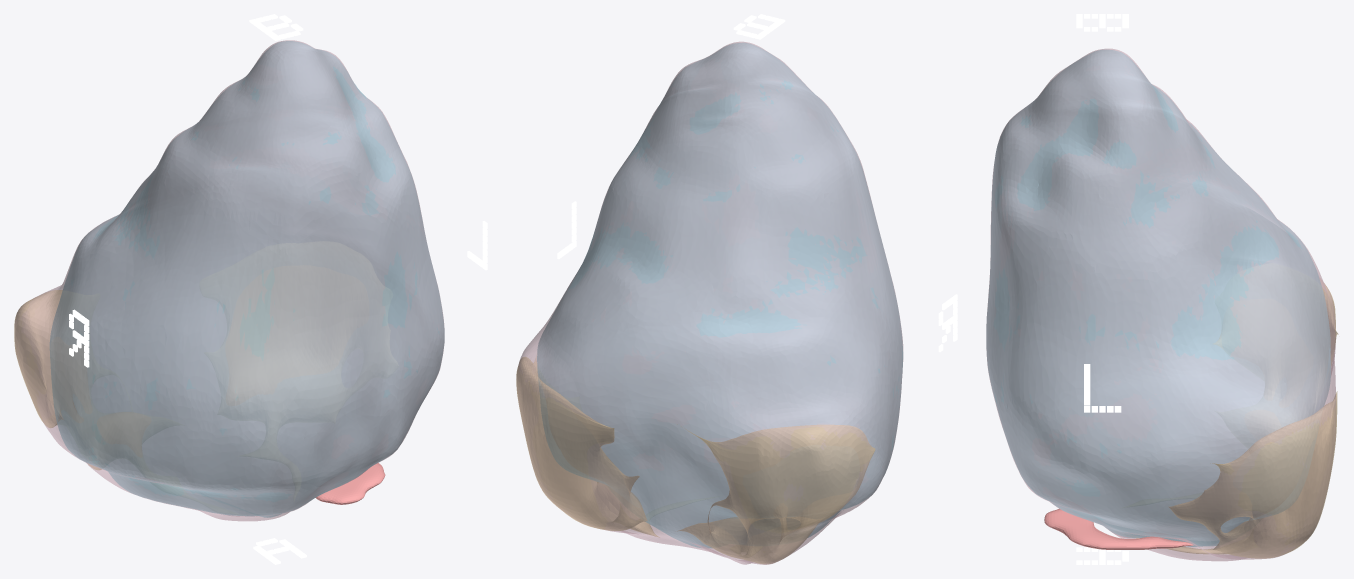
The picture shows the model from 3 angles, left to right: view 1: azimuth 30°, elevation 25°; view 2: azimuth 150°, elevation 25°; view 3: azimuth 270°, elevation 25°; orthographic projection. The views are drawn at different scales.
Visible parts, largest first — view 1: prostate_gland, transition_zone, peripheral_zone, lesion_01, pv_ar_marker_B, pv_ar_marker_R, pv_ar_marker_A; view 2: prostate_gland, transition_zone, peripheral_zone, pv_ar_marker_B, pv_ar_marker_R; view 3: prostate_gland, transition_zone, peripheral_zone, lesion_01, pv_ar_marker_B, pv_ar_marker_L, pv_ar_marker_A.
Boxes of the visible parts, x1,y1,x2,y2 form: prostate_gland: (15,40,444,521); transition_zone: (50,41,444,517); peripheral_zone: (14,290,101,469); lesion_01: (316,463,385,504); pv_ar_marker_B: (249,14,303,40); pv_ar_marker_R: (69,309,89,367); pv_ar_marker_A: (253,538,306,564); prostate_gland: (516,41,903,564); transition_zone: (537,43,903,547); peripheral_zone: (516,357,875,563); pv_ar_marker_B: (733,14,785,39); pv_ar_marker_R: (938,294,957,352); prostate_gland: (986,48,1336,561); transition_zone: (986,49,1330,546); peripheral_zone: (1136,283,1338,558); lesion_01: (1044,508,1193,549); pv_ar_marker_B: (1076,14,1128,31); pv_ar_marker_L: (1084,364,1121,412); pv_ar_marker_A: (1076,547,1128,564).
Bounding box in the file's own units: 0.0524 × 0.0657 × 0.0393.
